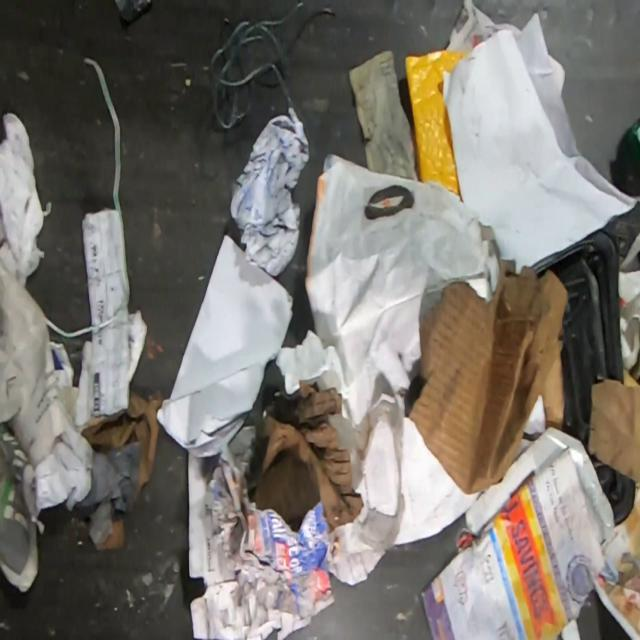cardboard: (409, 260, 567, 497), (248, 382, 366, 545), (590, 369, 640, 483)
rigid_plastic: (530, 230, 640, 525)
